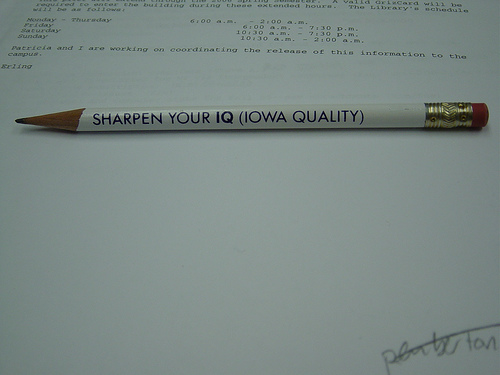pen_tip: (12, 80, 95, 153)
